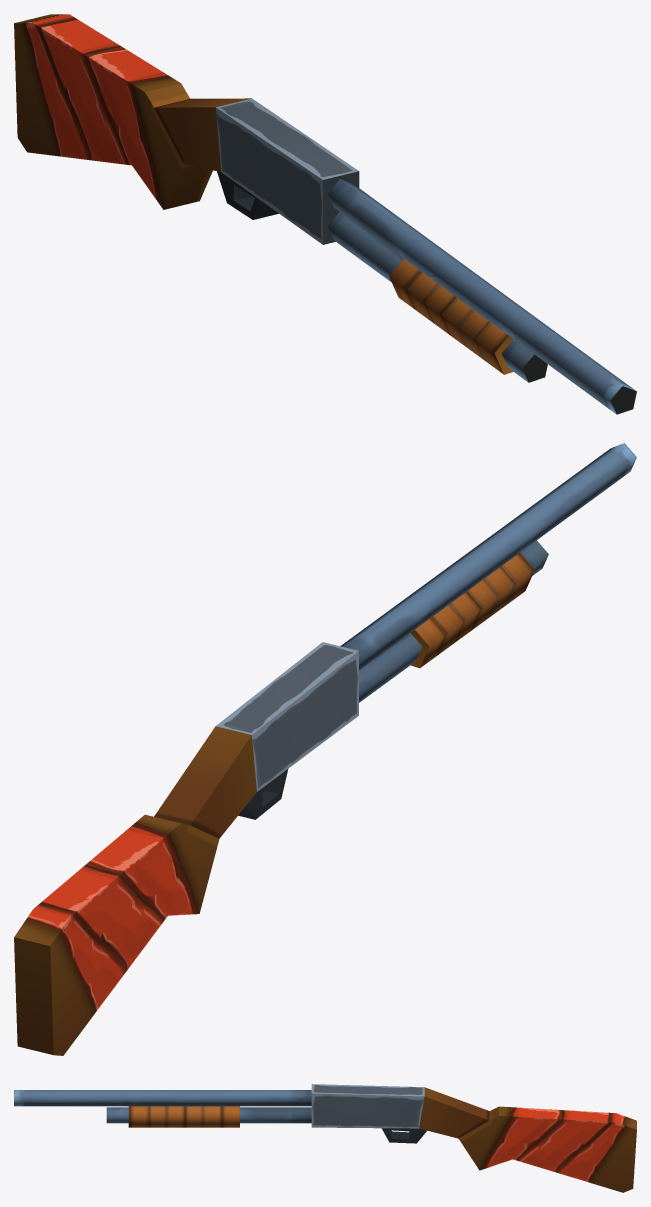
Rendered from wp_shotgun.fbx.
The picture shows the model from 3 angles, top to bottom: view 1: azimuth 30°, elevation 25°; view 2: azimuth 150°, elevation 25°; view 3: azimuth 270°, elevation 25°; orthographic projection. The views are drawn at different scales.
Parts seen in each view (by area): view 1: wp_shotgun; view 2: wp_shotgun; view 3: wp_shotgun.
Part boxes in pixels (<box>): wp_shotgun: <box>14,14,636,414</box>; wp_shotgun: <box>14,443,636,1055</box>; wp_shotgun: <box>14,1084,636,1192</box>.
Size of the model in its own units: 3.42 by 15.4 by 87.42.
